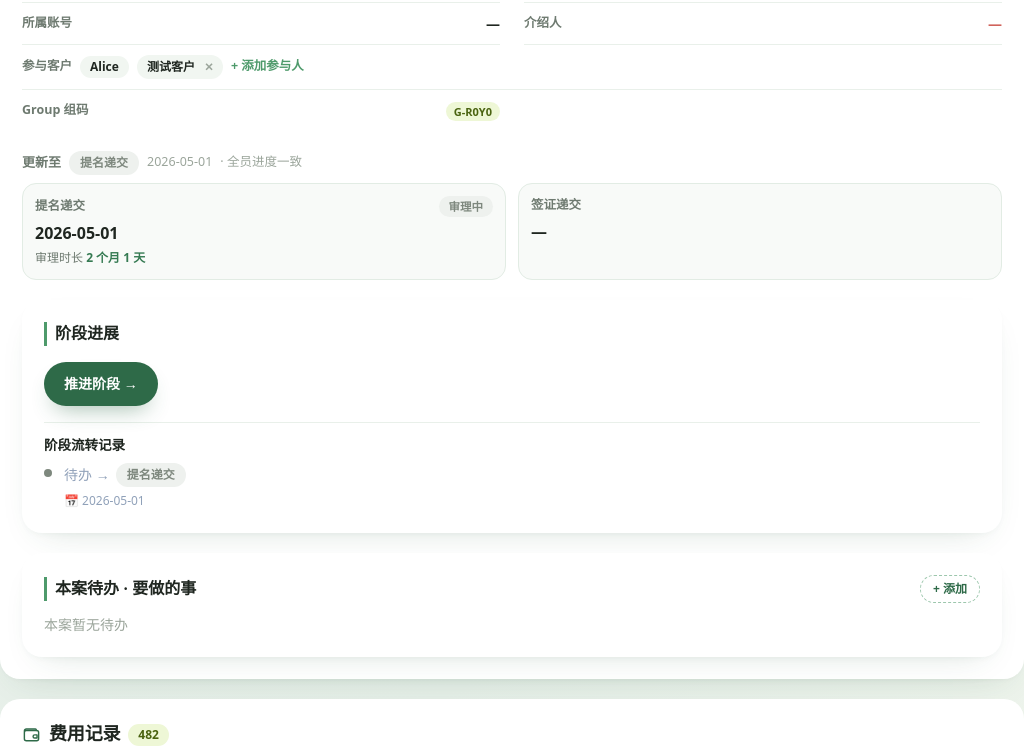
it: CustomerDetailPage（案件中心单页 · 无 tab） › 参与的案件：出现在参与人页面（无归属/主导标注）、平铺参与客户、阶段可推进
(page scrolled)
Expected: the text "参与客户" is shown, [22, 57, 72, 76]
Expected: the button named "移出 测试客户" is shown, [199, 57, 219, 77]
Click the button "推进阶段 →": (101, 384) [44, 362, 158, 406]
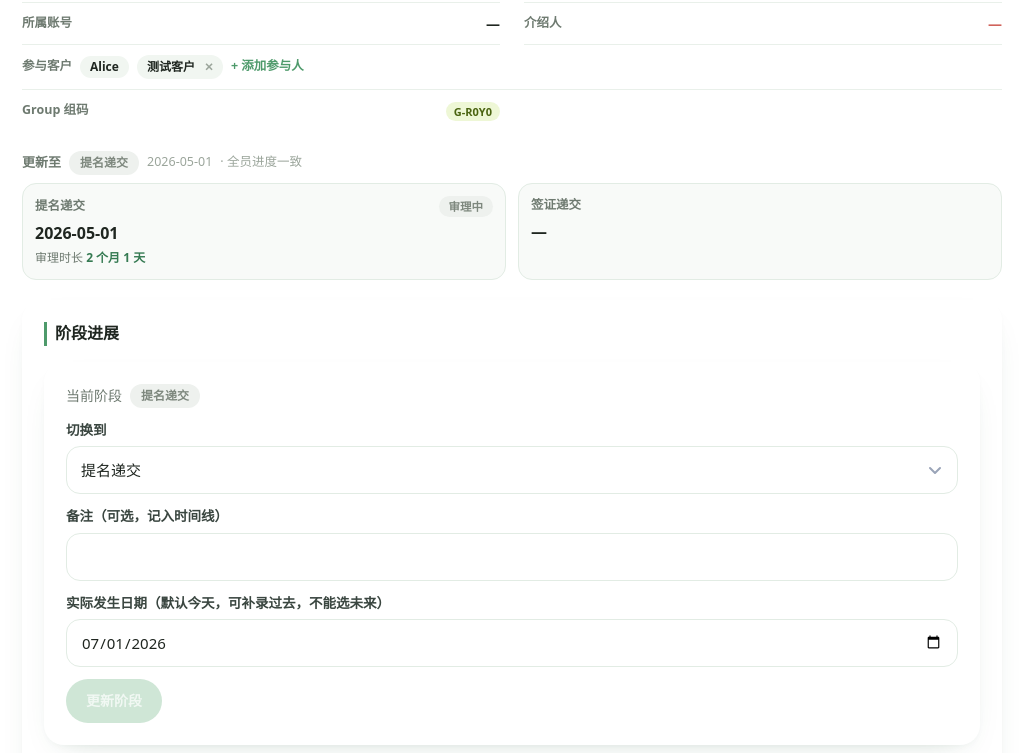
Now the button "更新阶段" is shown, box [66, 679, 162, 723]
